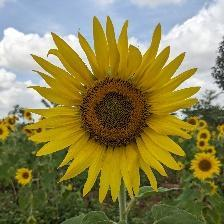sunflower: (24, 17, 203, 205)
